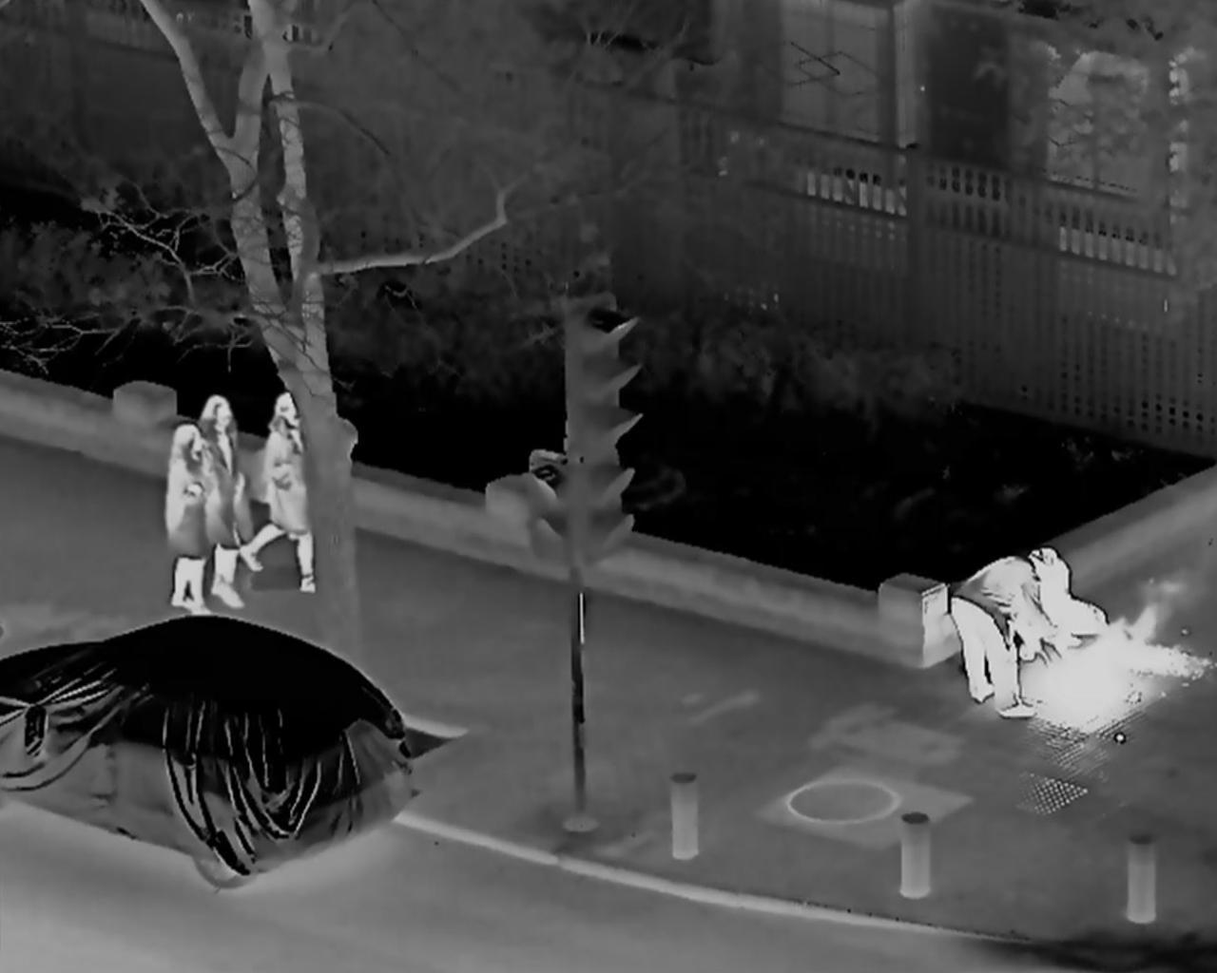person: (239, 393, 338, 597), (953, 544, 1049, 716), (194, 397, 252, 609), (156, 431, 215, 616), (1017, 544, 1108, 663)
